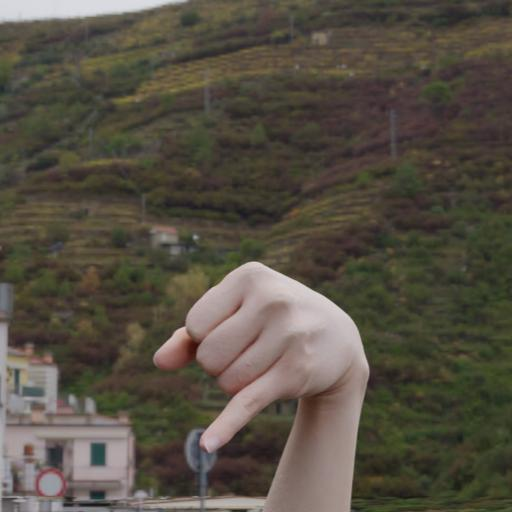J: (147, 258, 374, 460)
